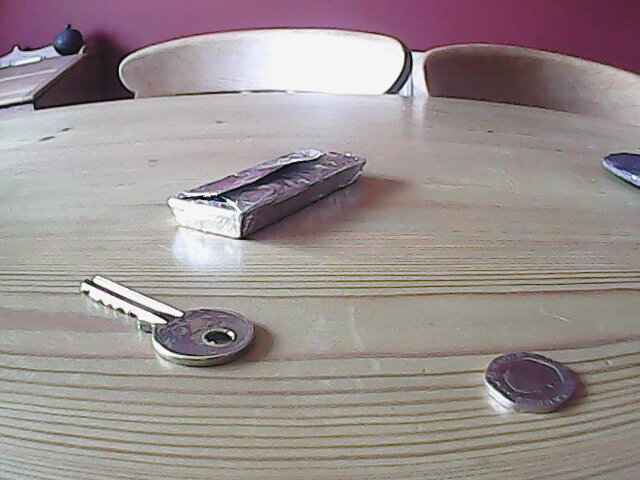Coin: (482, 351, 580, 417)
Foil: (165, 145, 367, 242)
Key: (75, 272, 252, 370)
